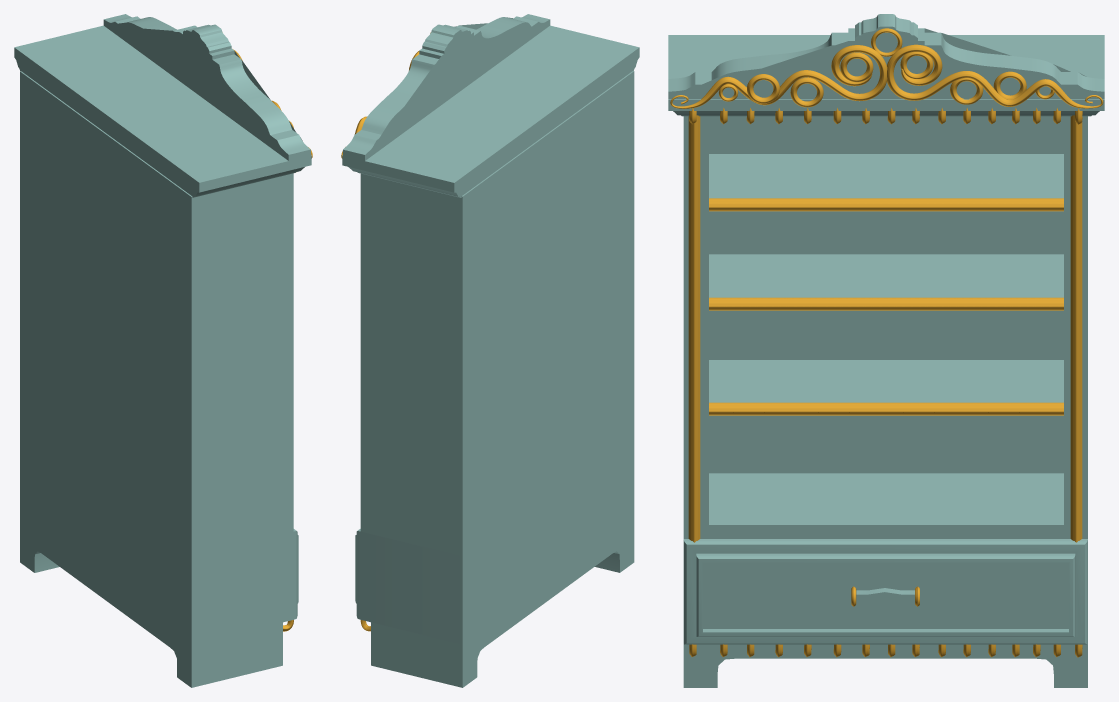
Rendered from Furniture_Bookshelf1.fbx.
The picture shows the model from 3 angles, left to right: view 1: azimuth 30°, elevation 25°; view 2: azimuth 150°, elevation 25°; view 3: azimuth 270°, elevation 25°; orthographic projection. The views are drawn at different scales.
Visible parts, largest first — view 1: Body; view 2: Body; view 3: Body, Metal.
Part boxes in pixels (left/top/right/bottom): Body: left=14, top=14, right=311, bottom=687; Body: left=342, top=14, right=639, bottom=687; Body: left=668, top=14, right=1104, bottom=687; Metal: left=670, top=28, right=1103, bottom=657.
Size of the model in its own units: 86.79 by 395 by 232.
